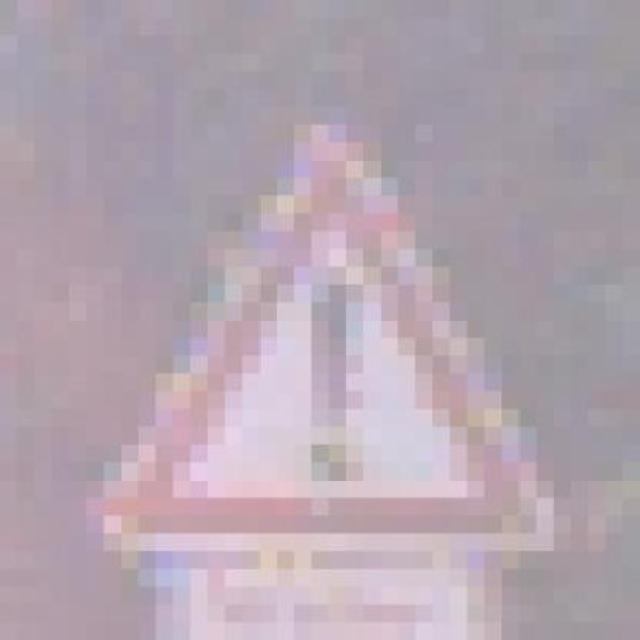Attention Please-: (69, 142, 571, 569)
